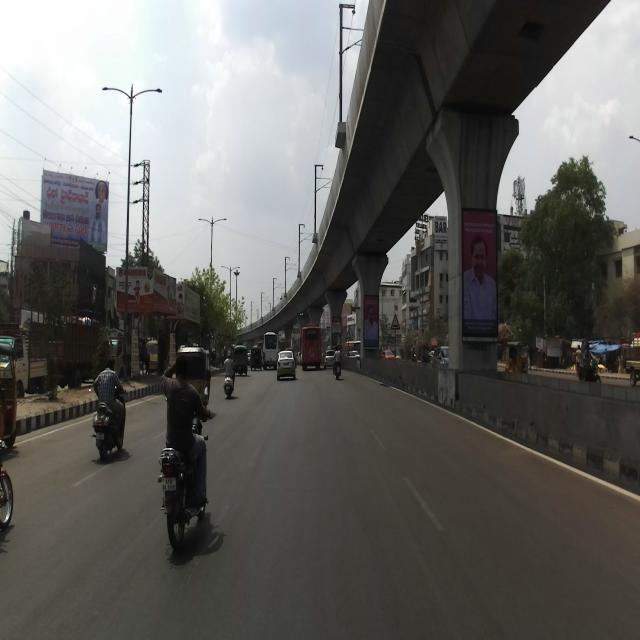motorcycle: (156, 385, 210, 551)
scooter: (90, 378, 124, 459)
